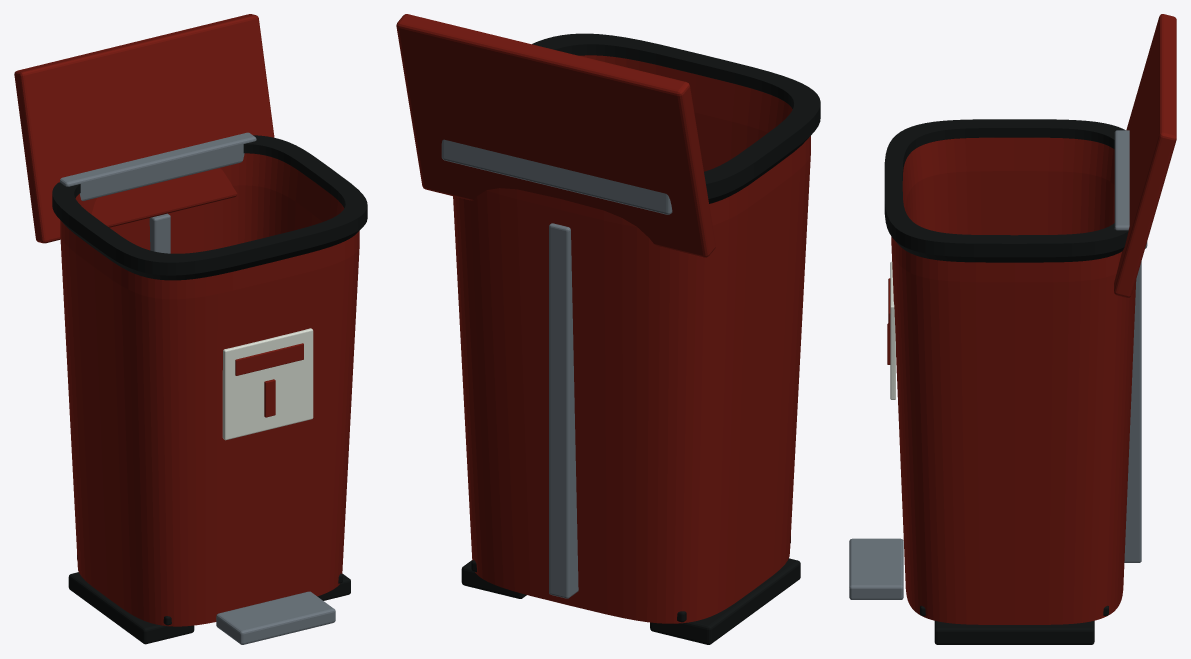
The model's file is asset.fbx.
The picture shows the model from 3 angles, left to right: view 1: azimuth 30°, elevation 25°; view 2: azimuth 150°, elevation 25°; view 3: azimuth 270°, elevation 25°; orthographic projection. The views are drawn at different scales.
Visible parts, largest first — view 1: radcare_clinical_waste_bin_hollow_container_shell, radcare_clinical_waste_bin_raised_lid, radcare_clinical_waste_bin_rolled_open_rim, radcare_clinical_waste_bin_front_label_plate, radcare_clinical_waste_bin_hinge, radcare_clinical_waste_bin_foot_pedal, radcare_clinical_waste_bin_rubber_foot_l, radcare_clinical_waste_bin_label_band, radcare_clinical_waste_bin_pedal_link; view 2: radcare_clinical_waste_bin_hollow_container_shell, radcare_clinical_waste_bin_raised_lid, radcare_clinical_waste_bin_rolled_open_rim, radcare_clinical_waste_bin_pedal_link, radcare_clinical_waste_bin_hinge, radcare_clinical_waste_bin_rubber_foot_l, radcare_clinical_waste_bin_rubber_foot_r; view 3: radcare_clinical_waste_bin_hollow_container_shell, radcare_clinical_waste_bin_rolled_open_rim, radcare_clinical_waste_bin_raised_lid, radcare_clinical_waste_bin_pedal_link, radcare_clinical_waste_bin_foot_pedal, radcare_clinical_waste_bin_rubber_foot_r, radcare_clinical_waste_bin_hinge, radcare_clinical_waste_bin_front_label_plate.
Boxes of the visible parts, x1,y1,x2,y2 form: radcare_clinical_waste_bin_hollow_container_shell: (60,153,359,626); radcare_clinical_waste_bin_raised_lid: (14,14,274,243); radcare_clinical_waste_bin_rolled_open_rim: (52,135,367,280); radcare_clinical_waste_bin_front_label_plate: (222,328,313,440); radcare_clinical_waste_bin_hinge: (60,132,256,200); radcare_clinical_waste_bin_foot_pedal: (216,591,335,644); radcare_clinical_waste_bin_rubber_foot_l: (68,572,194,644); radcare_clinical_waste_bin_label_band: (235,343,303,375); radcare_clinical_waste_bin_pedal_link: (149,213,170,253); radcare_clinical_waste_bin_hollow_container_shell: (453,55,810,623); radcare_clinical_waste_bin_raised_lid: (396,14,715,257); radcare_clinical_waste_bin_rolled_open_rim: (532,33,820,203); radcare_clinical_waste_bin_pedal_link: (549,223,578,598); radcare_clinical_waste_bin_hinge: (441,139,672,214); radcare_clinical_waste_bin_rubber_foot_l: (650,558,800,644); radcare_clinical_waste_bin_rubber_foot_r: (461,560,526,598); radcare_clinical_waste_bin_hollow_container_shell: (891,137,1136,624); radcare_clinical_waste_bin_rolled_open_rim: (884,119,1128,262); radcare_clinical_waste_bin_raised_lid: (1114,14,1176,297); radcare_clinical_waste_bin_pedal_link: (1124,261,1141,562); radcare_clinical_waste_bin_foot_pedal: (849,538,903,599); radcare_clinical_waste_bin_rubber_foot_r: (934,620,1094,644); radcare_clinical_waste_bin_hinge: (1114,130,1147,248); radcare_clinical_waste_bin_front_label_plate: (890,261,895,399).
Size of the model in its own units: 0.36 by 0.7 by 0.4.
